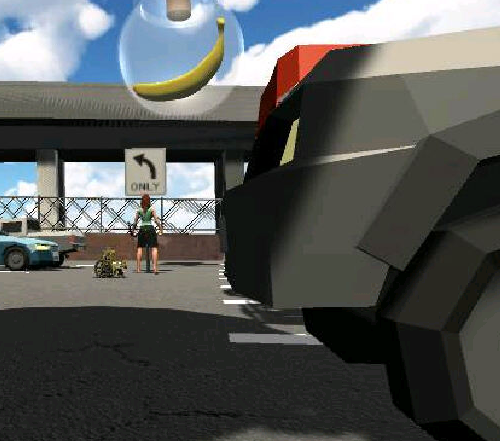arrow_left: (131, 149, 161, 181)
